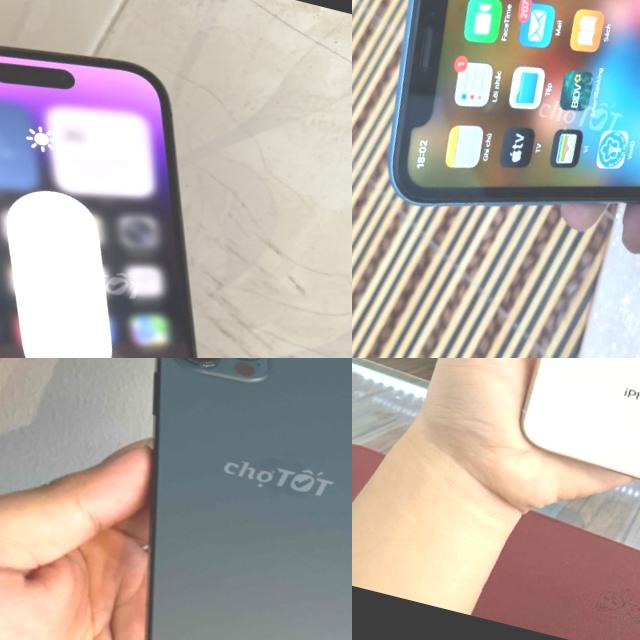gen_12_13: (65, 358, 352, 640)
gen_14: (0, 0, 302, 358)
gen_x_xs: (389, 0, 640, 204), (502, 358, 640, 525)
